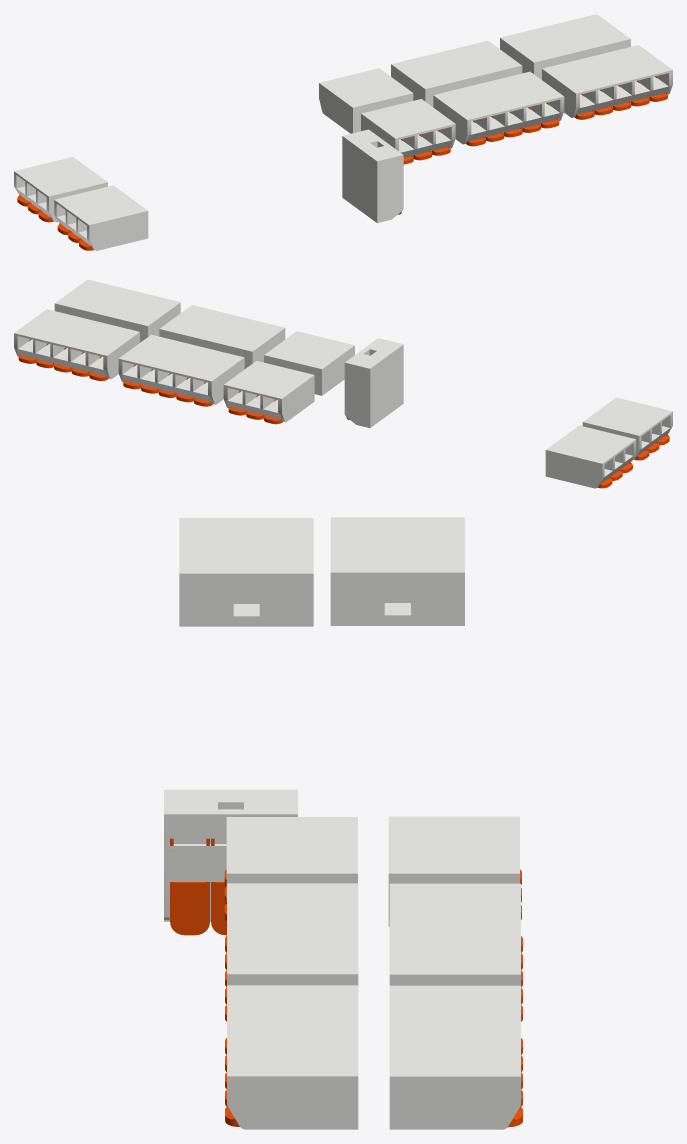
Rendered from wagos.glb.
3 views of the same model, one above another, from view 1: azimuth 30°, elevation 25°; view 2: azimuth 150°, elevation 25°; view 3: azimuth 270°, elevation 25° (orthographic). The views are drawn at different scales.
Visible parts, largest first — view 1: Wago 5er.003, Wago 5er.002, Wago 3er.004, Wago 3er.002, Wago 5er.001, Wago 5er, Wago 3er.001, Wago 3er, Wago 3er.003; view 2: Wago 5er.001, Wago 5er, Wago 3er.004, Wago 3er, Wago 3er.003, Wago 5er.003, Wago 5er.002, Wago 3er.001, Wago 3er.002; view 3: Wago 5er, Wago 5er.002, Wago 3er.002, Wago 3er.003, Wago 5er.001, Wago 5er.003, Wago 3er.004, Wago 3er, Wago 3er.001.
Boxes of the visible parts, x1,y1,x2,y2 form: Wago 5er.003: (433,71,564,146); Wago 5er.002: (542,45,672,119); Wago 3er.004: (342,129,403,223); Wago 3er.002: (54,185,148,250); Wago 5er.001: (391,40,522,106); Wago 5er: (500,14,630,79); Wago 3er.001: (361,99,455,164); Wago 3er: (319,68,413,133); Wago 3er.003: (14,157,107,222); Wago 5er.001: (118,334,244,406); Wago 5er: (14,309,139,380); Wago 3er.004: (344,338,403,427); Wago 3er: (223,361,314,424); Wago 3er.003: (545,425,635,488); Wago 5er.003: (159,305,285,368); Wago 5er.002: (54,279,180,342); Wago 3er.001: (264,331,354,395); Wago 3er.002: (582,397,672,460); Wago 5er: (389,985,522,1129); Wago 5er.002: (225,985,358,1129); Wago 3er.002: (179,518,313,626); Wago 3er.003: (330,517,464,625); Wago 5er.001: (389,883,522,1021); Wago 5er.003: (225,883,358,1021); Wago 3er.004: (164,789,297,935); Wago 3er: (388,816,521,926); Wago 3er.001: (224,817,357,920).
Bounding box in the file's own units: 0.1833 × 0.0193 × 0.0495.
